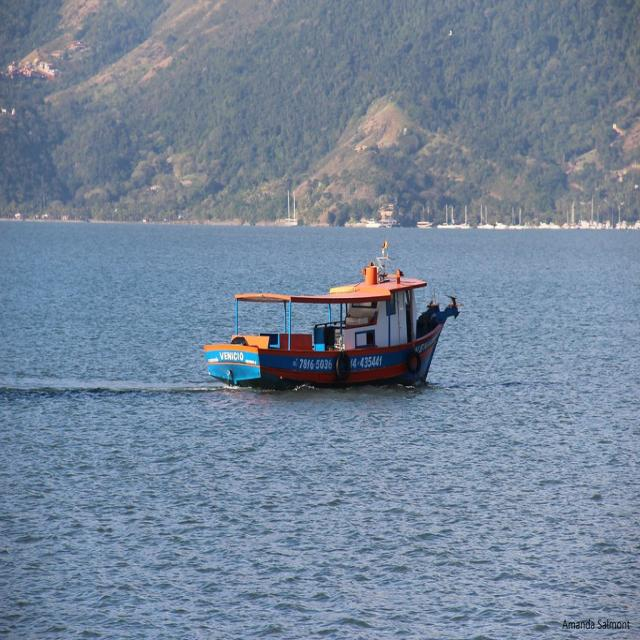fishing boat: (205, 256, 458, 401)
